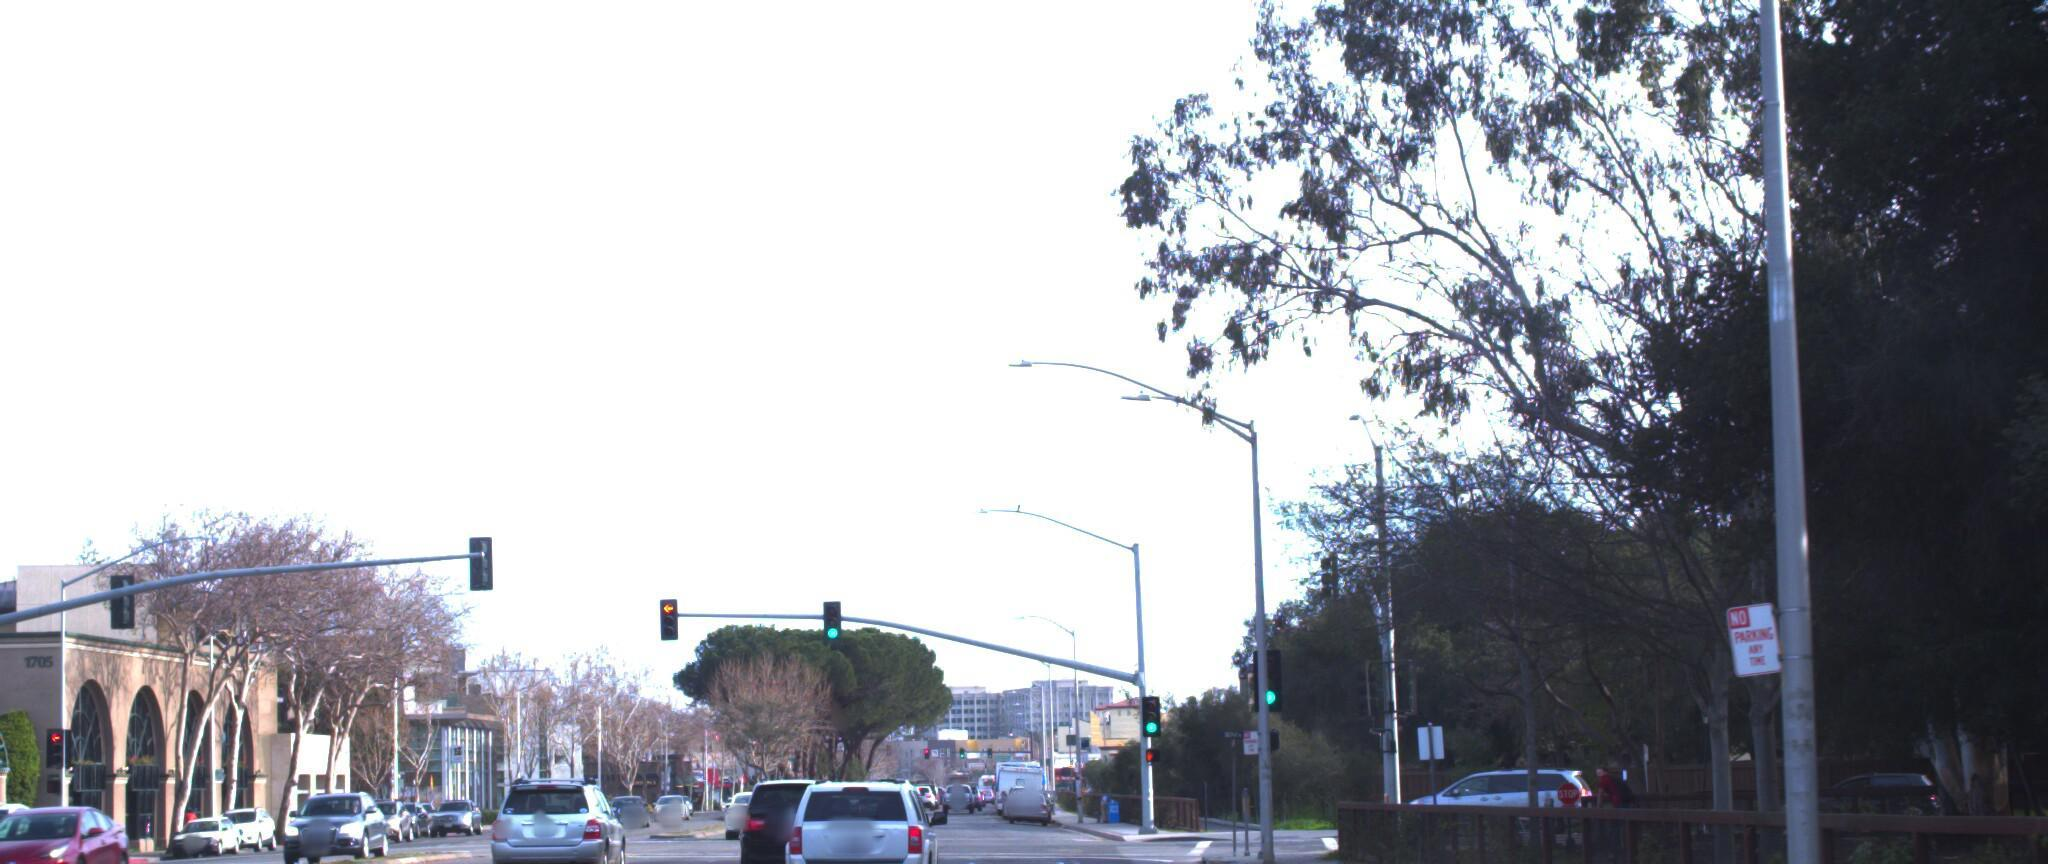bicycle: (1565, 754, 1643, 864)
car: (761, 762, 936, 864), (1381, 764, 1586, 837), (474, 770, 630, 864), (733, 778, 852, 864), (0, 796, 140, 864), (272, 790, 391, 864), (0, 794, 55, 864), (0, 794, 4, 864)
